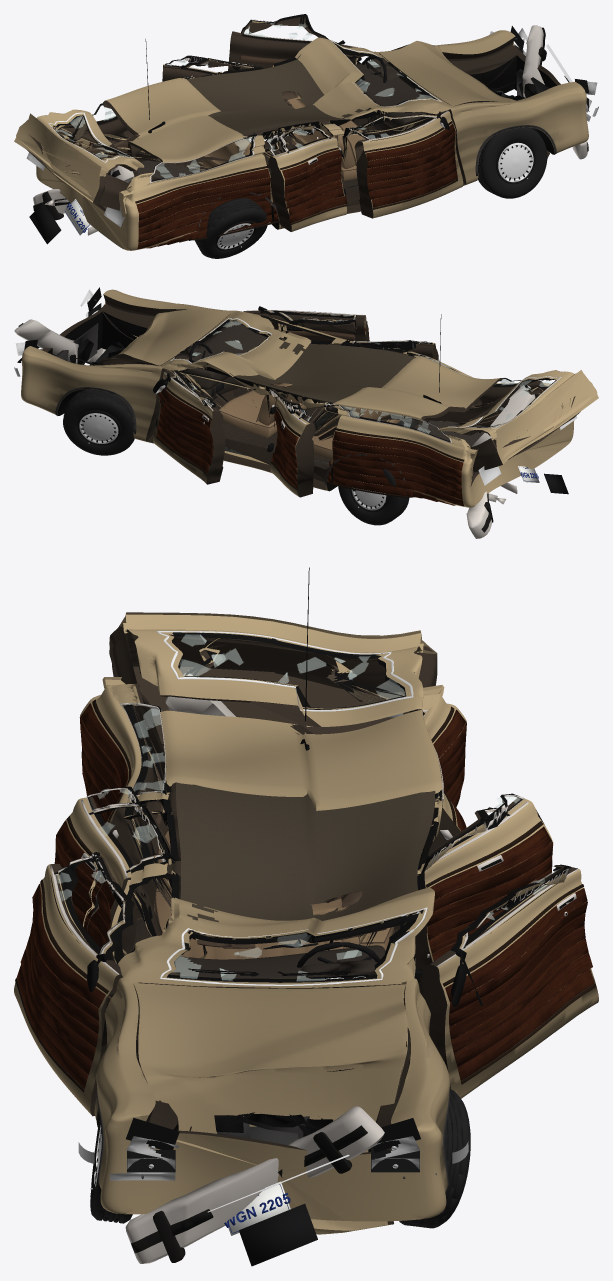
File: wagon82_roll_d2_lod1.glb
3 renders of one model, top to bottom at view 1: azimuth 30°, elevation 25°; view 2: azimuth 150°, elevation 25°; view 3: azimuth 270°, elevation 25°, orthographic. The views are drawn at different scales.
Parts seen in each view (by area): view 1: Body, Trim, Tailgate, Trim_FR, Interior, Wheel_FR_mesh, Trim_RR, Hood, Door_FR, Wheel_RR_mesh, Door_RR, Door_FL (+10 smaller); view 2: Body, Trim, Interior, Tailgate, Wheel_FL_mesh, Hood, Trim_FL, Door_FL, Door_RL, Wheel_RL_mesh, Door_FR, Bumper_R (+9 smaller); view 3: Body, Hood, Tailgate, Trim_FL, Bumper_F, Trim_FR, Ends, Door_FL, Interior, Trim_RL, Trim, Door_FR (+10 smaller).
Part boxes in pixels (box(x1,y1,x2,y2)): Body: box(36, 30, 588, 250); Trim: box(63, 39, 556, 249); Tailgate: box(14, 109, 144, 210); Trim_FR: box(347, 110, 457, 209); Interior: box(85, 57, 430, 202); Wheel_FR_mesh: box(478, 127, 547, 198); Trim_RR: box(267, 125, 347, 224); Hood: box(379, 41, 549, 158); Door_FR: box(343, 110, 463, 218); Wheel_RR_mesh: box(195, 198, 267, 258); Door_RR: box(268, 125, 346, 231); Door_FL: box(228, 14, 358, 70); Body: box(21, 289, 574, 507); Trim: box(55, 314, 517, 506); Interior: box(173, 322, 499, 459); Tailgate: box(438, 370, 598, 472); Wheel_FL_mesh: box(63, 389, 134, 455); Hood: box(100, 309, 231, 365); Trim_FL: box(153, 372, 223, 475); Door_FL: box(153, 370, 225, 484); Door_RL: box(268, 388, 315, 497); Wheel_RL_mesh: box(338, 458, 409, 525); Door_FR: box(243, 310, 368, 342); Bumper_R: box(466, 385, 536, 538); Body: box(80, 677, 466, 1221); Hood: box(133, 983, 410, 1234); Tailgate: box(109, 612, 437, 745); Trim_FL: box(427, 868, 596, 1084); Bumper_F: box(125, 1106, 384, 1263); Trim_FR: box(15, 854, 124, 1092); Ends: box(78, 709, 468, 1266); Door_FL: box(418, 865, 598, 1098); Interior: box(153, 768, 394, 979); Trim_RL: box(425, 794, 552, 960); Trim: box(79, 567, 466, 1191); Door_FR: box(14, 852, 134, 1116).
Size of the model in its own units: 5.35 by 1.87 by 2.68.
31 materials, 6 textured.
